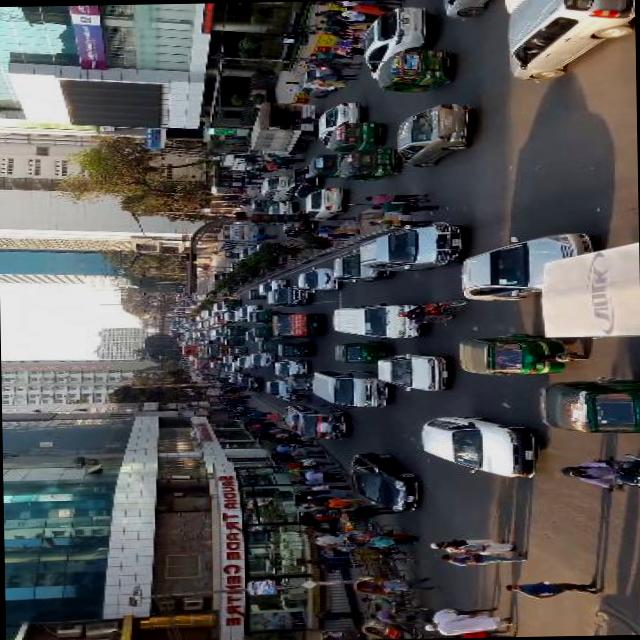bus: (213, 222, 254, 251), (200, 343, 226, 356), (188, 354, 214, 367), (180, 342, 198, 353), (182, 328, 194, 336)
car: (505, 0, 628, 79), (458, 230, 592, 300), (418, 412, 534, 482), (358, 4, 429, 78), (395, 99, 470, 168), (346, 449, 421, 512), (374, 352, 449, 390), (314, 98, 356, 146), (331, 246, 387, 280), (300, 183, 345, 220), (294, 262, 336, 292), (298, 62, 334, 96), (285, 165, 320, 196), (281, 208, 313, 234), (269, 357, 307, 378), (439, 0, 485, 17), (256, 276, 286, 296), (264, 198, 288, 222), (264, 378, 292, 394), (248, 349, 274, 364), (236, 374, 260, 389), (235, 304, 258, 318), (233, 352, 253, 368), (243, 326, 265, 340), (239, 246, 253, 260), (228, 371, 244, 382), (223, 359, 236, 372), (210, 271, 224, 280), (221, 352, 233, 362), (203, 331, 213, 338), (194, 291, 200, 297)
motorcycle: (536, 374, 639, 434), (456, 330, 590, 374), (376, 46, 452, 91), (351, 566, 428, 610), (341, 522, 415, 566), (556, 452, 638, 490), (338, 146, 399, 178), (397, 296, 468, 322), (328, 119, 382, 149), (333, 338, 395, 362), (304, 150, 342, 178), (274, 340, 312, 356), (284, 372, 310, 388), (274, 390, 310, 401), (256, 337, 284, 350), (247, 196, 270, 209), (251, 309, 277, 320), (250, 324, 272, 335), (247, 287, 264, 297), (249, 231, 272, 238), (222, 296, 240, 304), (222, 324, 238, 332), (224, 346, 244, 352), (220, 336, 240, 342), (224, 326, 244, 332), (221, 250, 237, 256)
truck: (539, 238, 635, 338), (358, 220, 464, 272), (246, 97, 314, 155), (330, 301, 420, 339), (308, 367, 387, 408), (282, 402, 346, 440), (264, 284, 310, 305), (259, 172, 291, 202), (222, 308, 242, 320), (212, 312, 230, 322), (211, 301, 227, 311), (206, 326, 222, 335), (205, 358, 221, 367), (199, 308, 217, 315), (180, 314, 193, 322), (195, 320, 202, 328)
